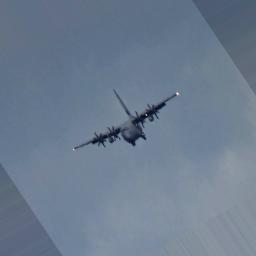Airplane: (71, 90, 180, 153)
